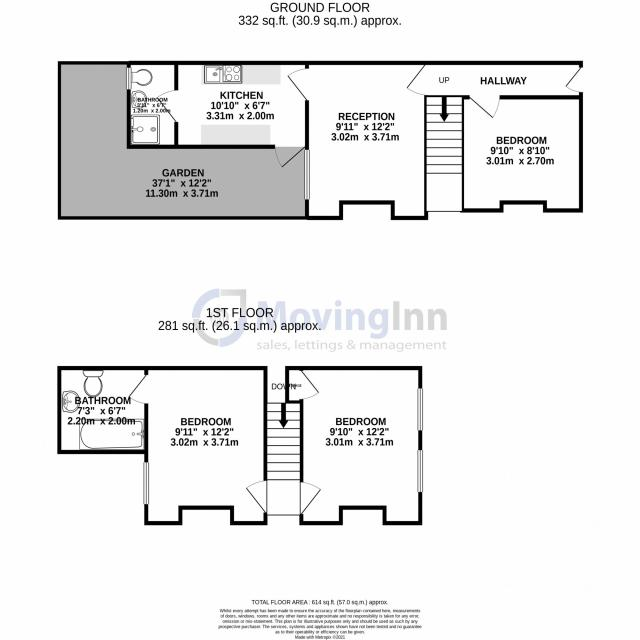DOOR: (122, 368, 149, 407), (271, 144, 309, 171), (151, 87, 178, 124), (466, 94, 503, 121), (402, 61, 428, 99), (286, 66, 310, 105), (243, 479, 268, 515), (300, 480, 324, 517)
ROOM: (57, 365, 267, 526), (285, 365, 423, 526), (462, 95, 583, 213)
WINDOW: (416, 447, 425, 494), (416, 386, 425, 432), (142, 459, 150, 506), (125, 65, 133, 92)
